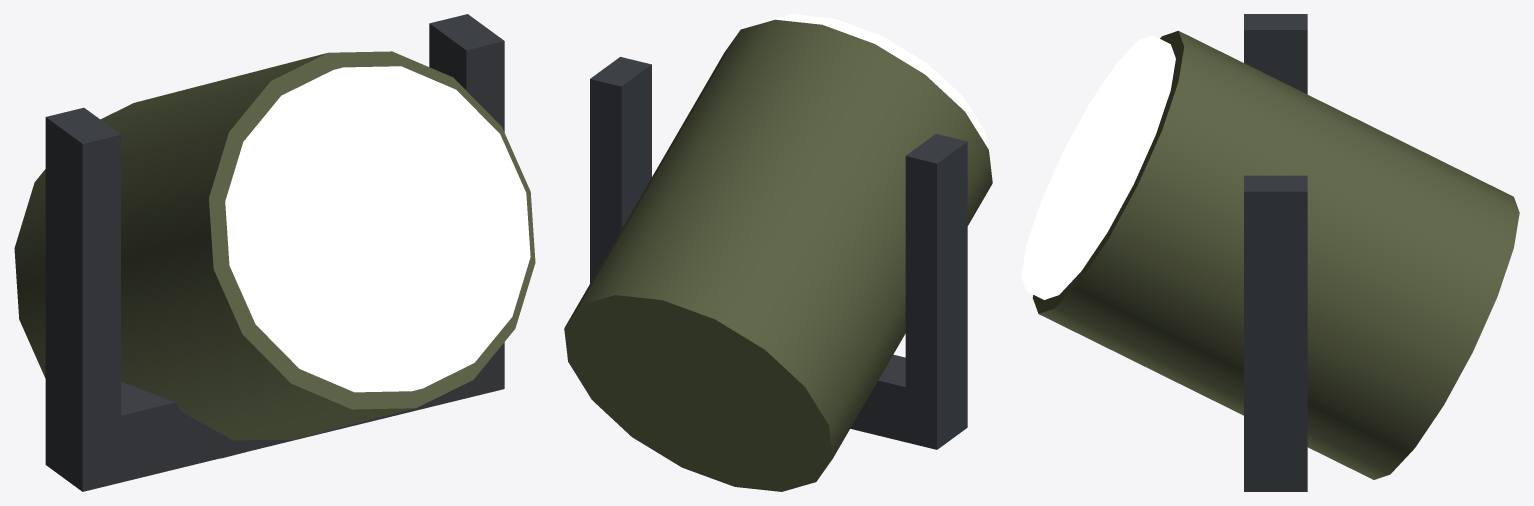
Rendered from searchlight_head.glb.
3 renders of one model, left to right at view 1: azimuth 30°, elevation 25°; view 2: azimuth 150°, elevation 25°; view 3: azimuth 270°, elevation 25°, orthographic. The views are drawn at different scales.
Parts seen in each view (by area): view 1: searchlight_head; view 2: searchlight_head; view 3: searchlight_head.
Part boxes in pixels (x1=…): searchlight_head: x1=14, y1=14, x2=535, y2=491; searchlight_head: x1=564, y1=14, x2=992, y2=491; searchlight_head: x1=1021, y1=14, x2=1519, y2=491.
Size of the model in its own units: 1.65 by 1.81 by 1.96.
